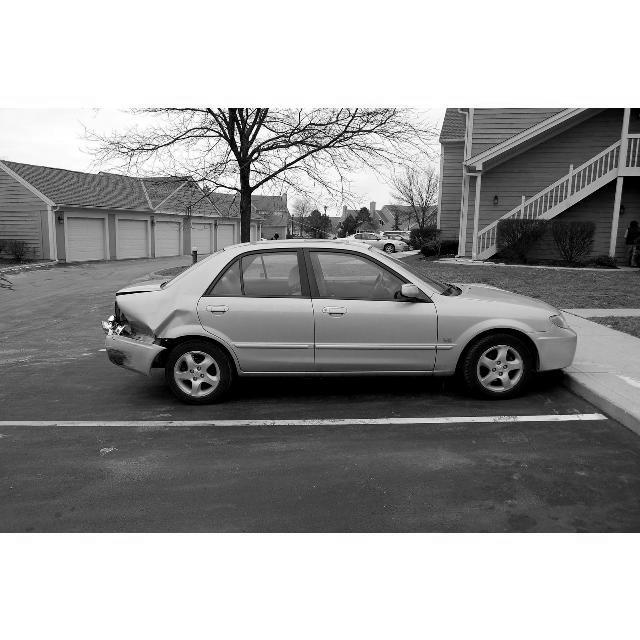quaterpanel-dent: (124, 291, 197, 339)
rear-bumper-dent: (105, 318, 156, 366)
